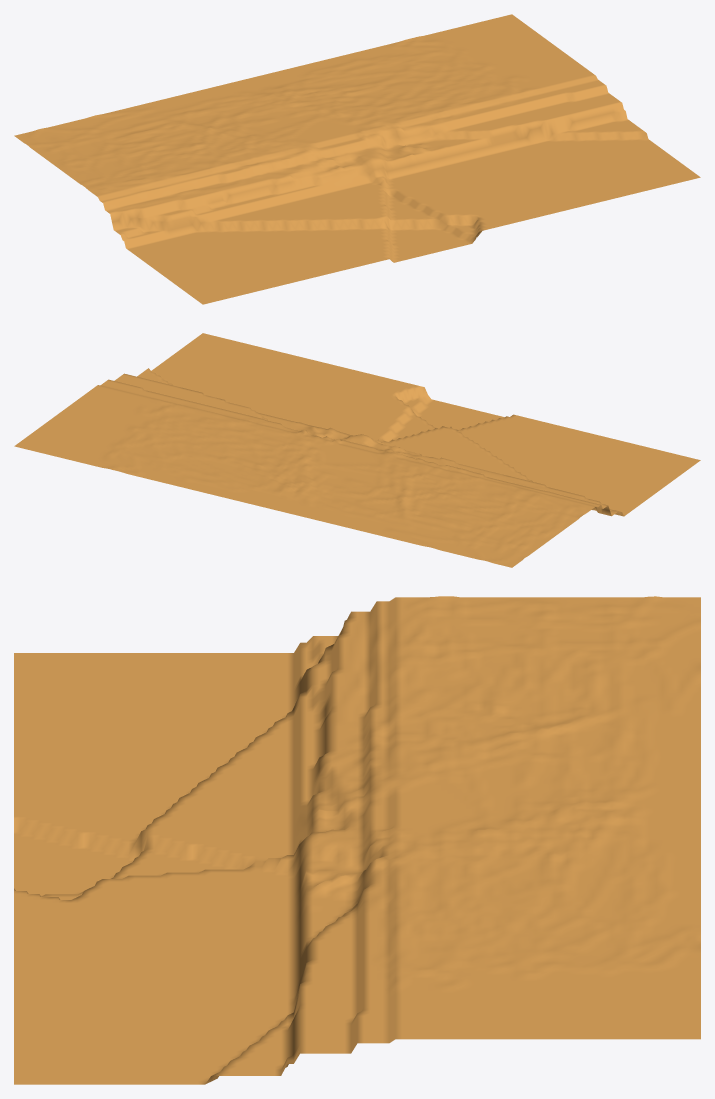
File: tierra.glb
The picture shows the model from 3 angles, top to bottom: view 1: azimuth 30°, elevation 25°; view 2: azimuth 150°, elevation 25°; view 3: azimuth 270°, elevation 25°; orthographic projection. The views are drawn at different scales.
Parts seen in each view (by area): view 1: Plane002; view 2: Plane002; view 3: Plane002.
Part boxes in pixels (x1,y1,x2,y2): Plane002: [14, 14, 700, 304]; Plane002: [14, 333, 700, 567]; Plane002: [14, 596, 700, 1084].
Size of the model in its own units: 96.27 by 6.94 by 63.24.
